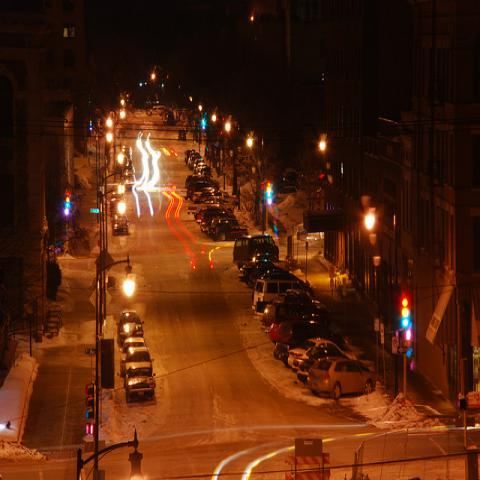car: (110, 107, 328, 348), (307, 354, 377, 402), (273, 327, 347, 366), (286, 338, 356, 370), (297, 344, 347, 386), (269, 314, 329, 343), (123, 364, 156, 408), (122, 344, 153, 376), (119, 336, 146, 372)
truck: (254, 287, 330, 326), (252, 279, 303, 311), (187, 197, 234, 220), (212, 222, 250, 242), (205, 191, 240, 207)
